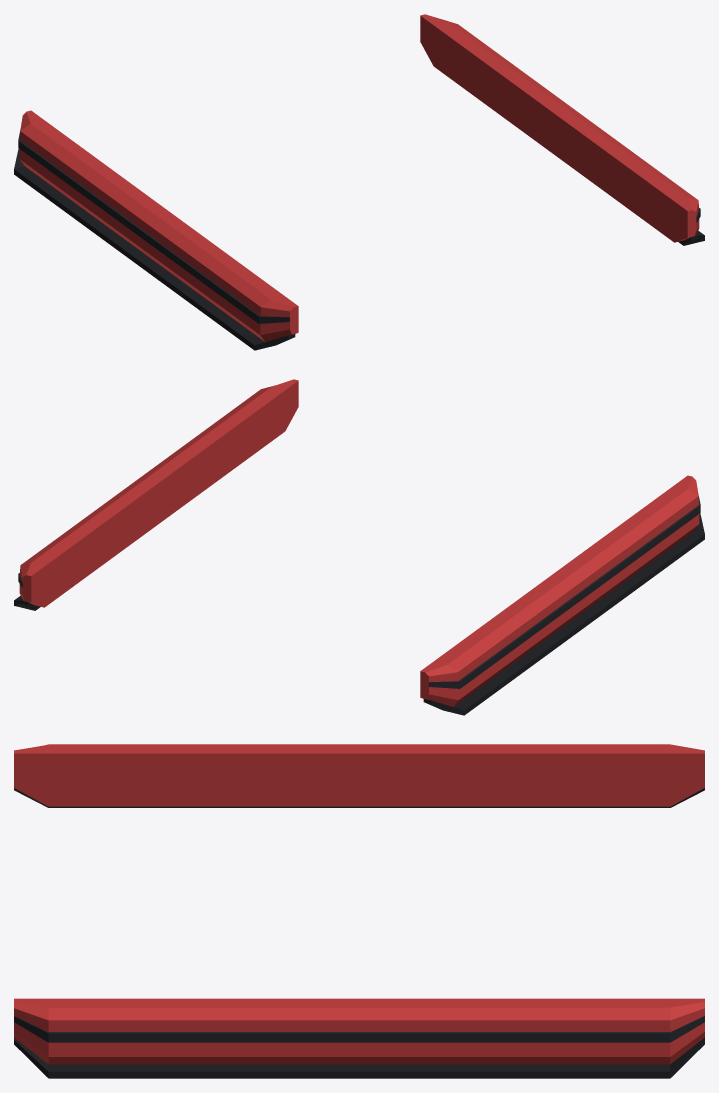
Rendered from skirt_side_sport.glb.
The picture shows the model from 3 angles, top to bottom: view 1: azimuth 30°, elevation 25°; view 2: azimuth 150°, elevation 25°; view 3: azimuth 270°, elevation 25°; orthographic projection. The views are drawn at different scales.
Visible parts, largest first — view 1: Body; view 2: Body; view 3: Body.
Part boxes in pixels (x1,y1,x2,y2): Body: [14, 14, 704, 350]; Body: [14, 379, 704, 715]; Body: [14, 744, 704, 1078].
Bounding box in the file's own units: 1.94 × 0.193 × 2.
